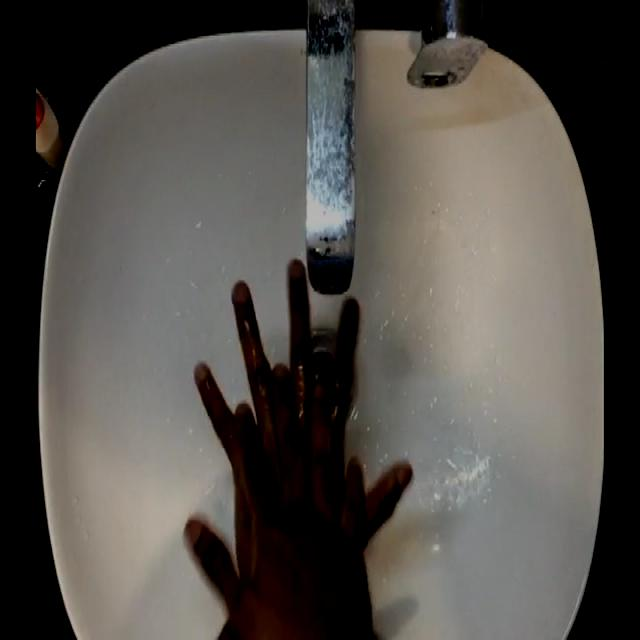step_2: (173, 252, 414, 585)
